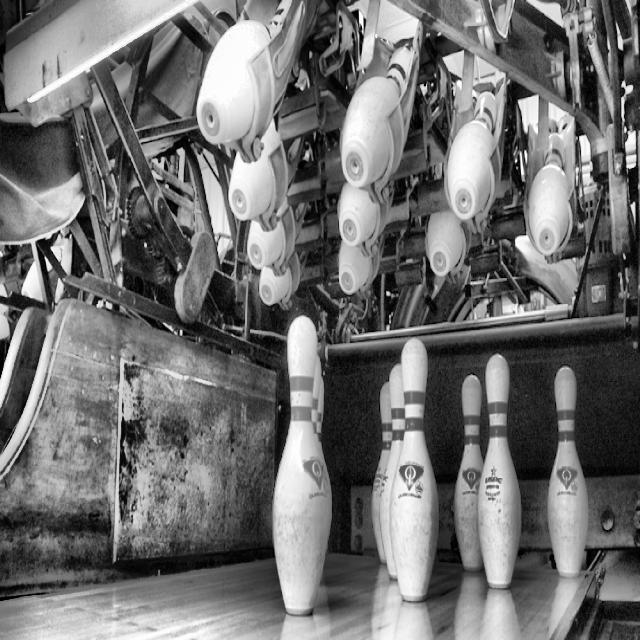bowling-pins: (273, 316, 332, 616), (391, 337, 439, 602), (479, 355, 522, 589), (549, 367, 589, 578), (455, 375, 484, 572), (380, 364, 406, 580), (372, 382, 393, 564), (312, 356, 321, 434), (317, 377, 325, 443)
